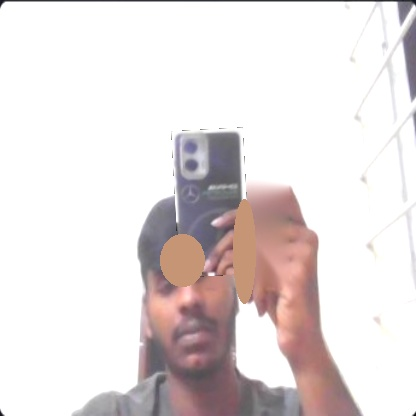cell_phone: (171, 127, 251, 277)
